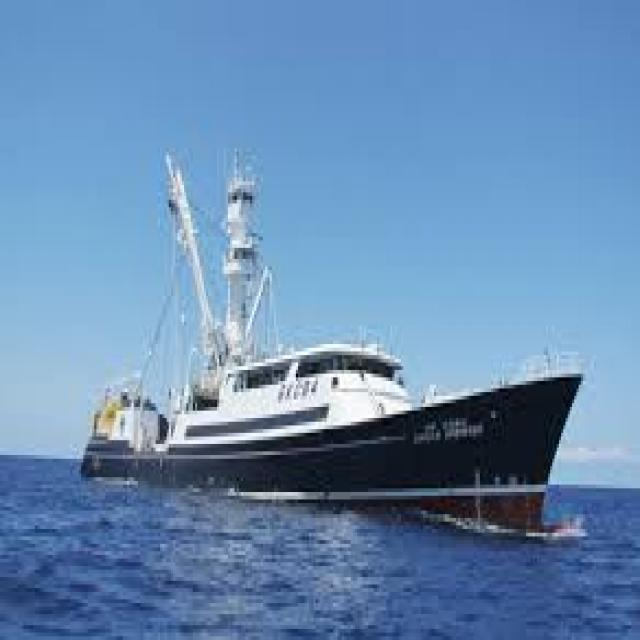Ship: (82, 138, 602, 548)
